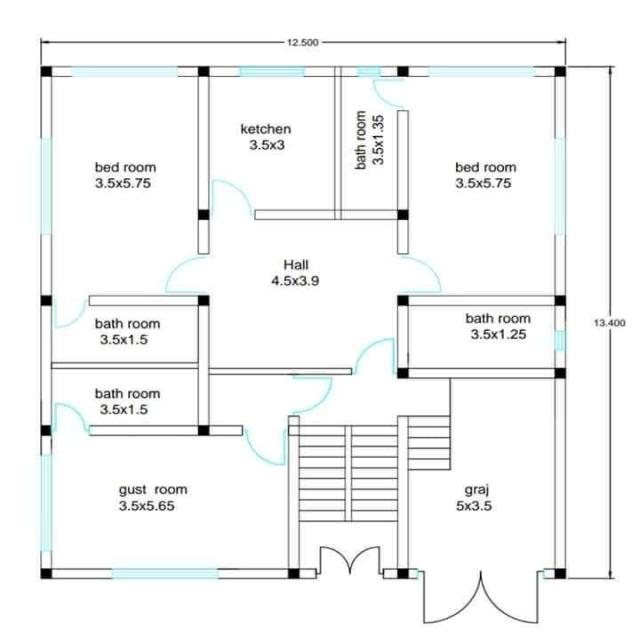column: (395, 293, 411, 309), (38, 64, 55, 79), (395, 64, 412, 79), (552, 64, 569, 79), (38, 293, 55, 308), (552, 293, 568, 308), (38, 423, 54, 438), (285, 566, 302, 580), (196, 424, 212, 438), (395, 366, 411, 380), (395, 208, 411, 222), (39, 567, 54, 581), (196, 208, 211, 222), (196, 65, 212, 78), (395, 567, 411, 580), (552, 568, 569, 580), (552, 366, 566, 380), (196, 294, 211, 307)
